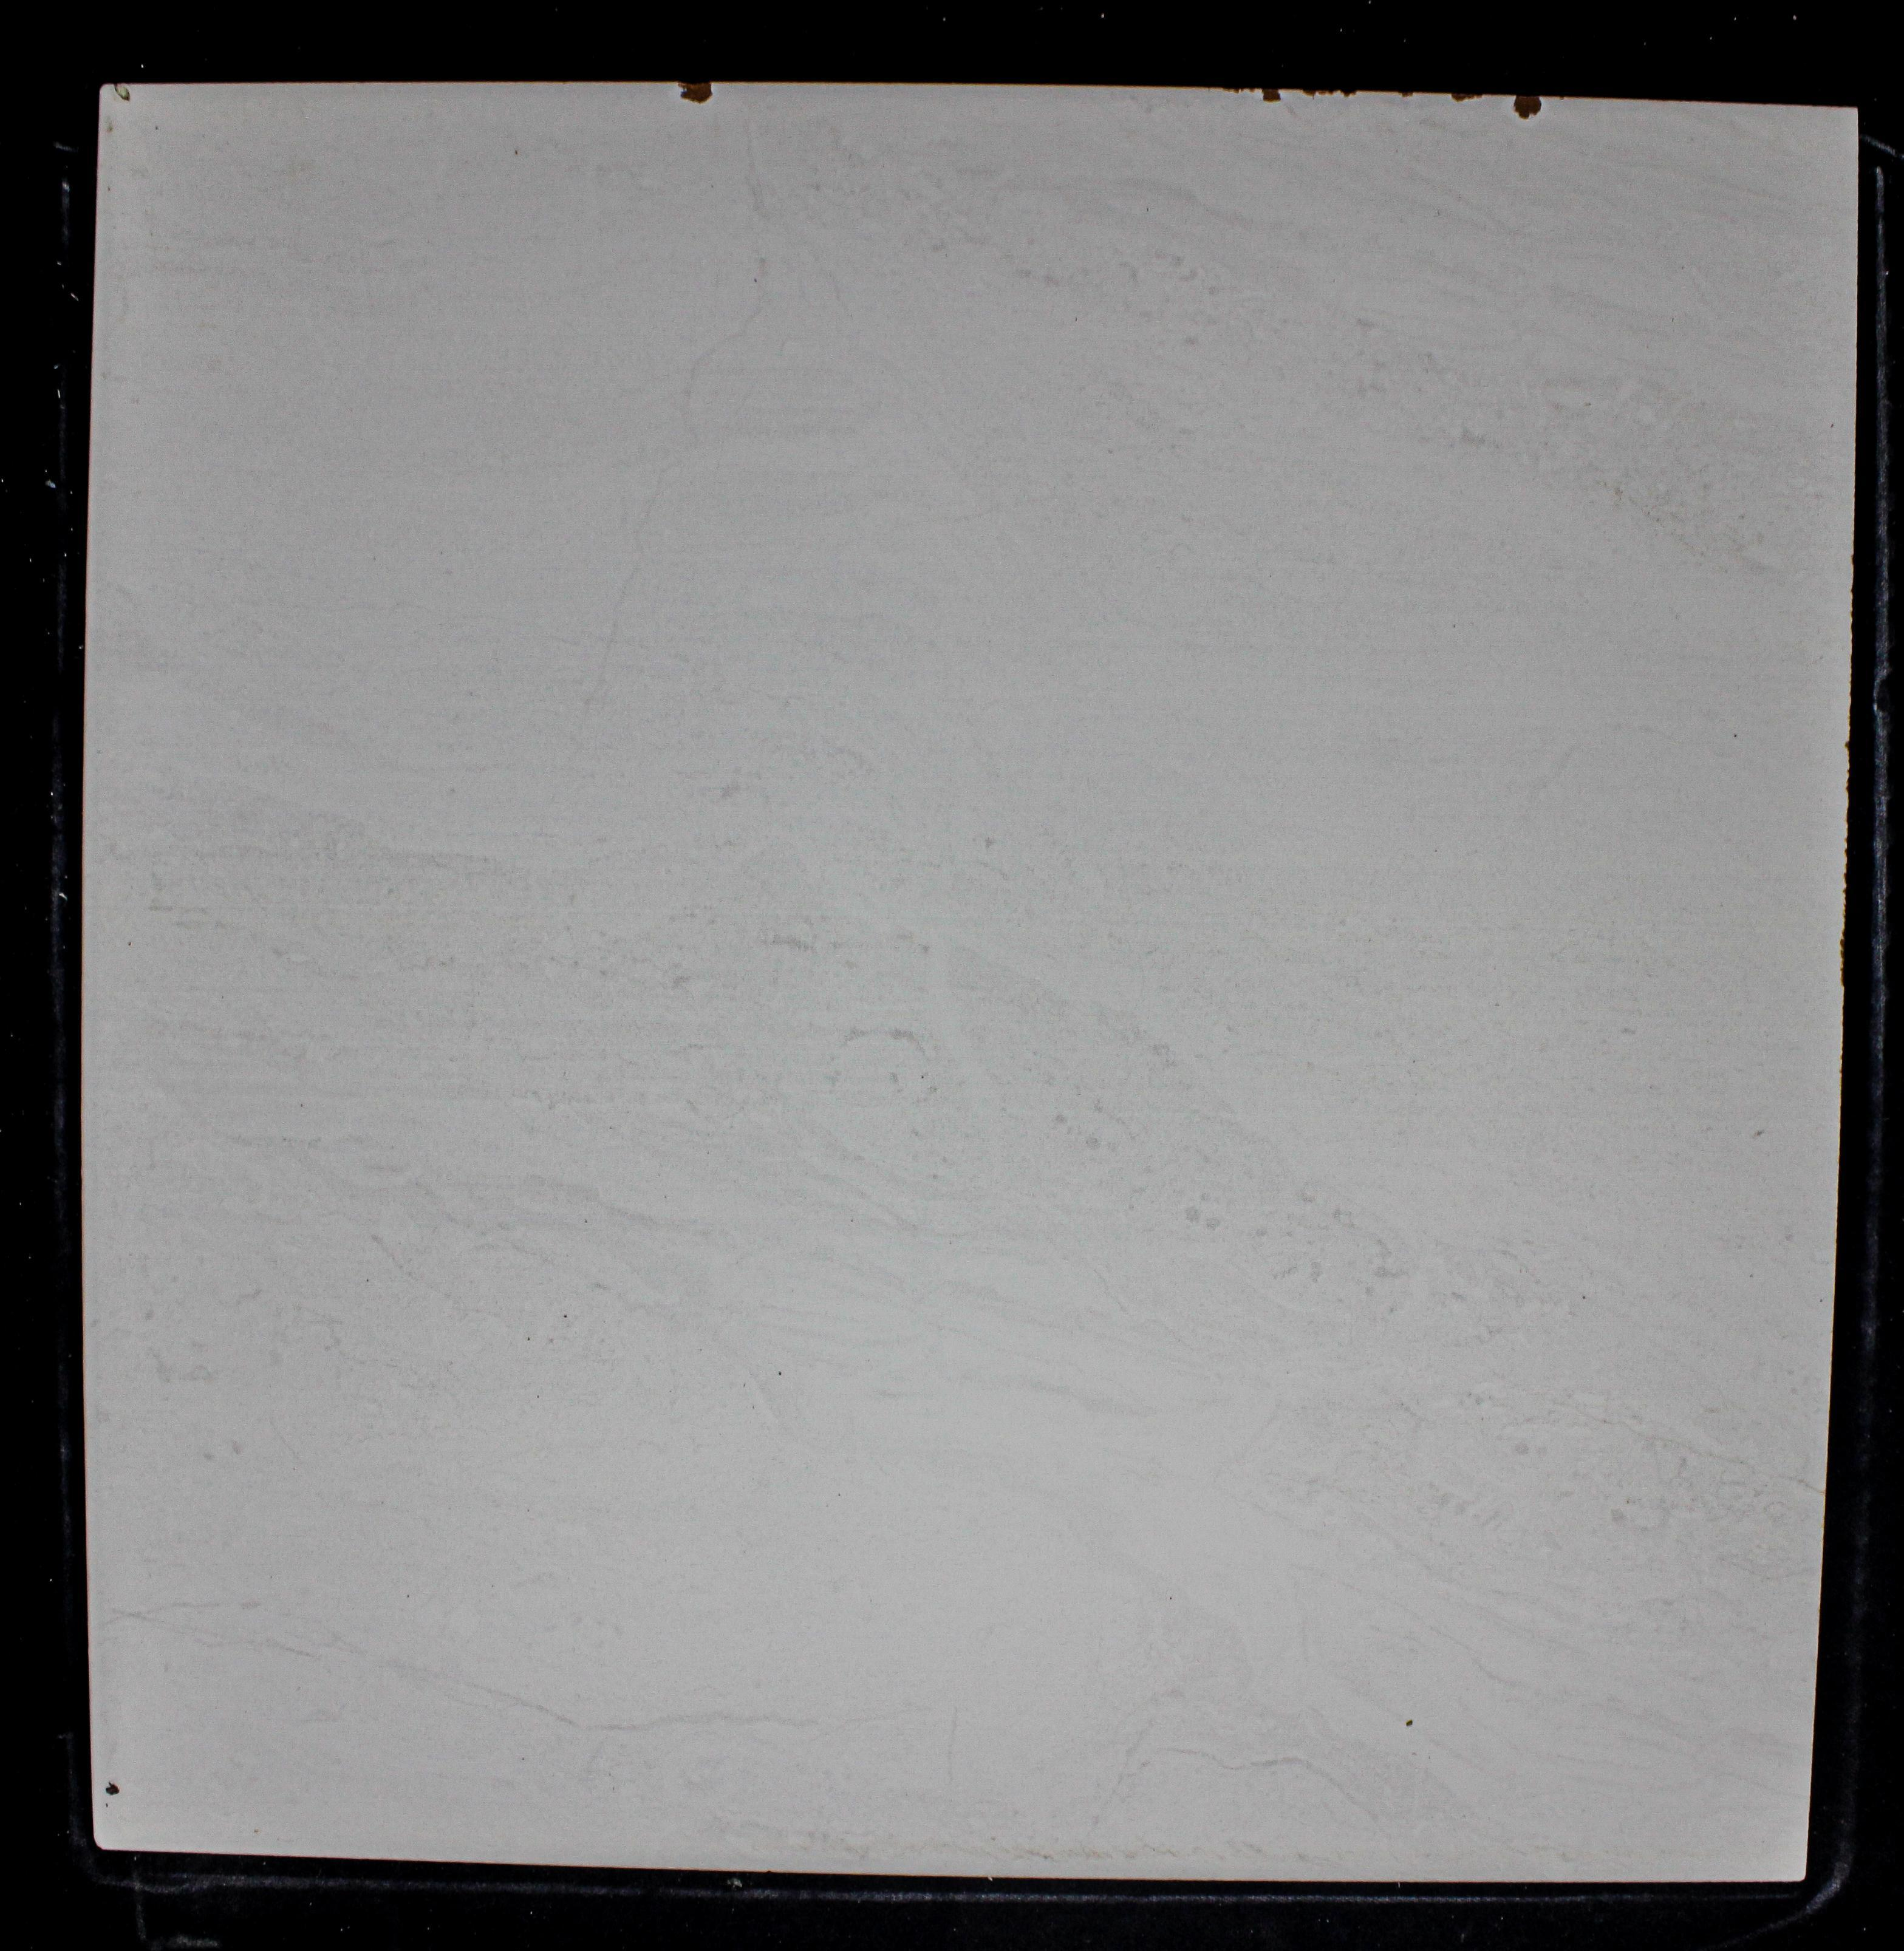edge-chipping: (675, 78, 715, 105), (1512, 92, 1543, 122), (1451, 91, 1484, 103), (1261, 87, 1283, 105)
hole: (105, 1780, 120, 1798)
